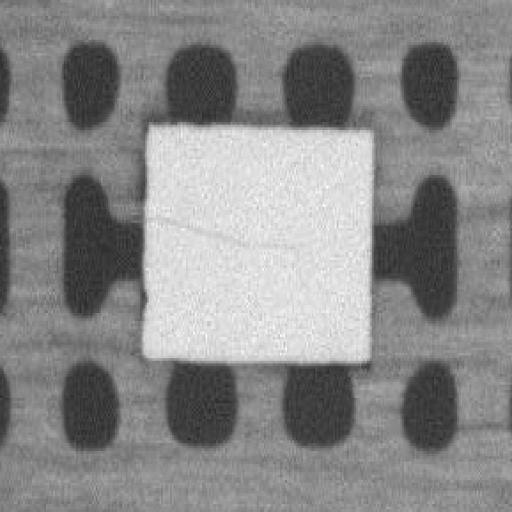DIE_CRACK: (147, 210, 294, 250)
